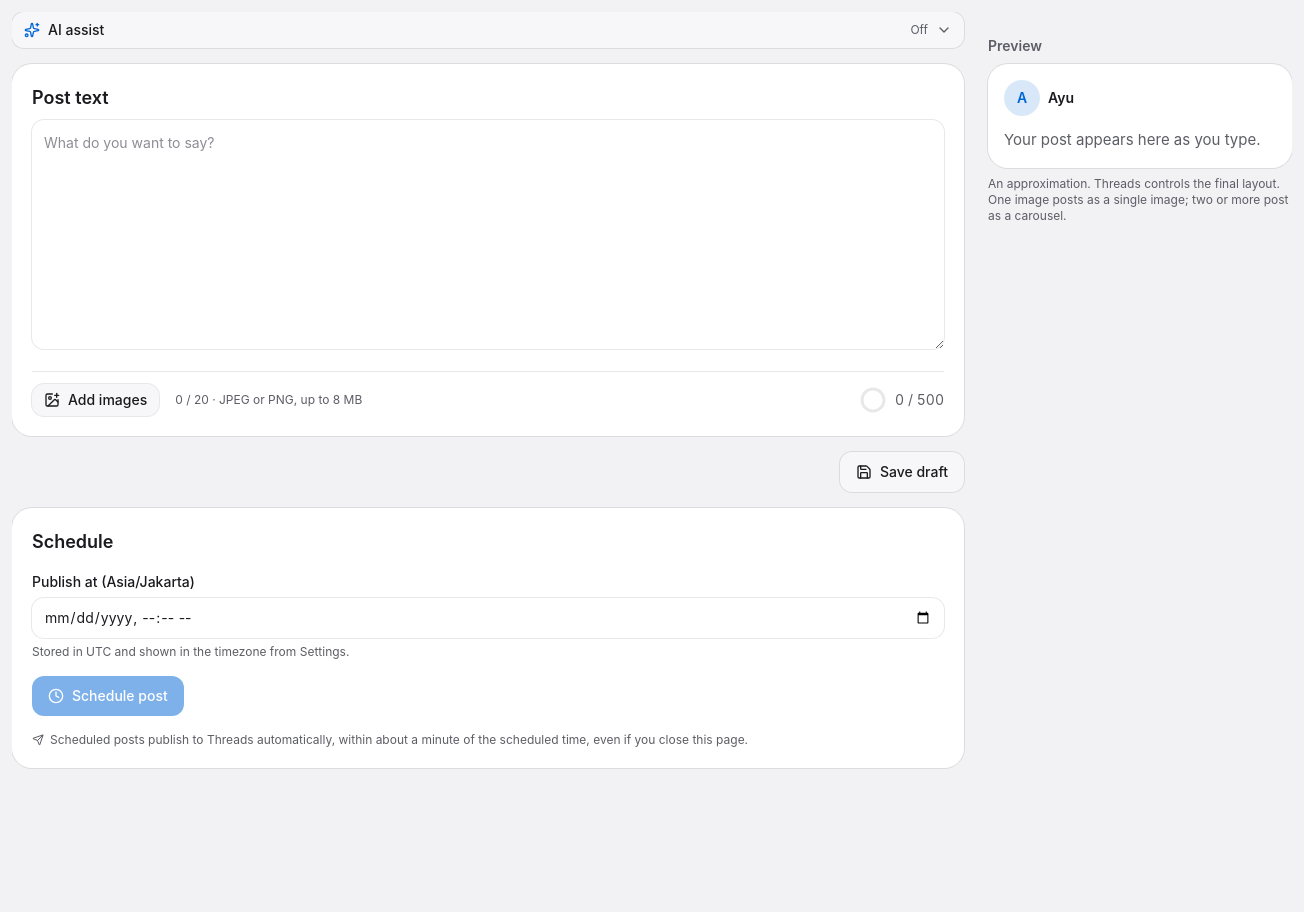
Test: PostEditor › resets every field in the Content Studio after saving a draft
In the text box labelled "Post text": (488, 234) [32, 120, 944, 349], type "Idea"
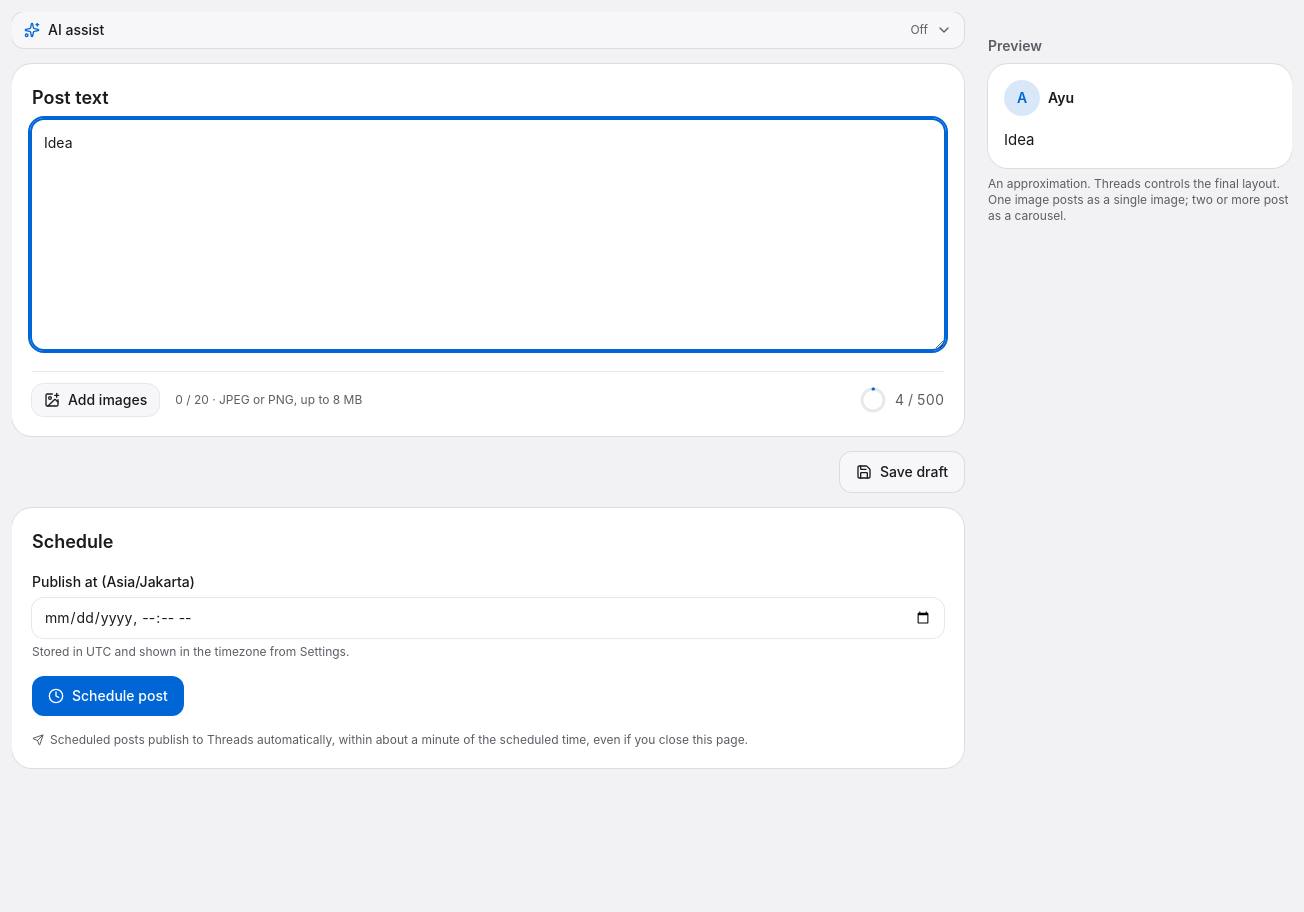
Click the button "Save draft": (902, 472) [840, 452, 964, 492]
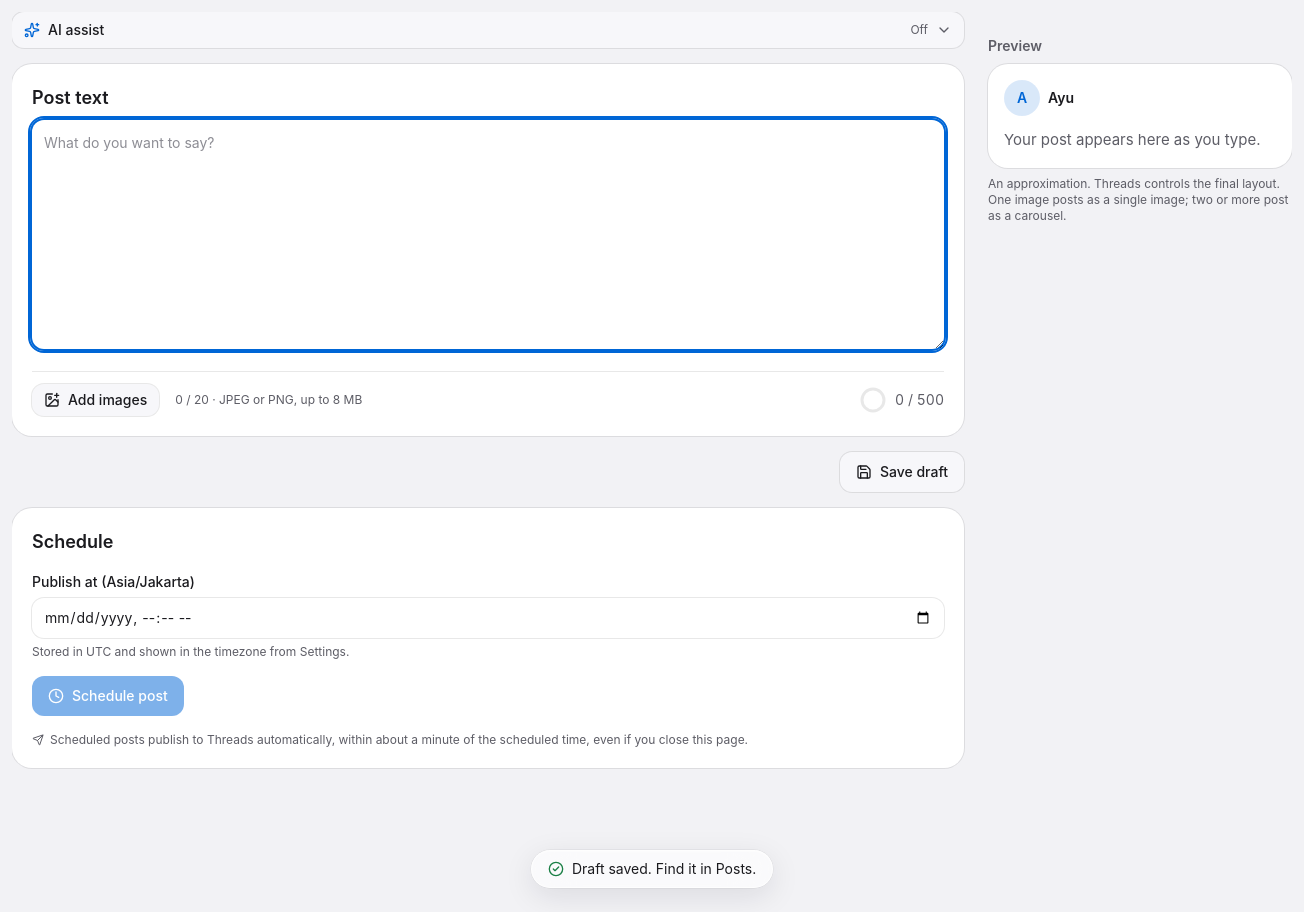
Now the text box labelled "Post text" is empty, box [32, 120, 944, 349]
Now the text "0 / 500" is shown, box [895, 390, 944, 410]
